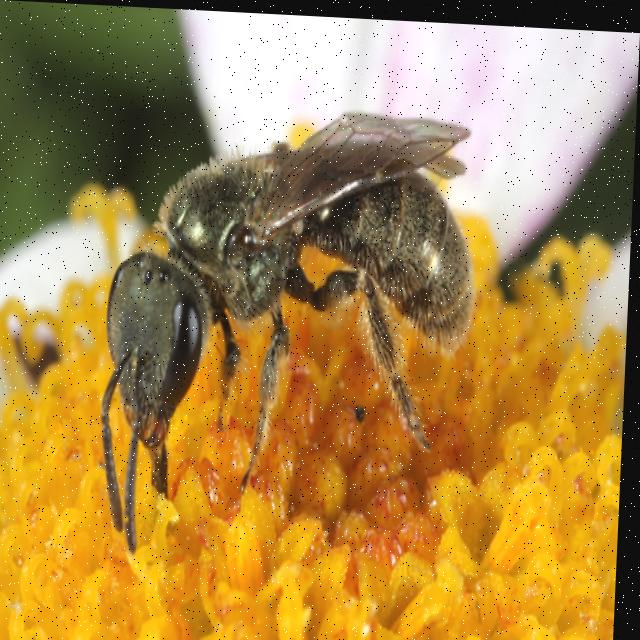Lasioglossum: (90, 85, 516, 529)
